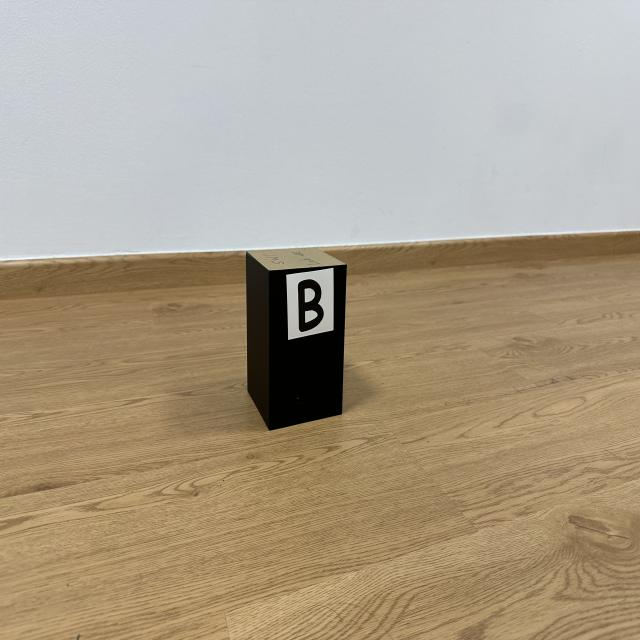B: (298, 280, 324, 332)
